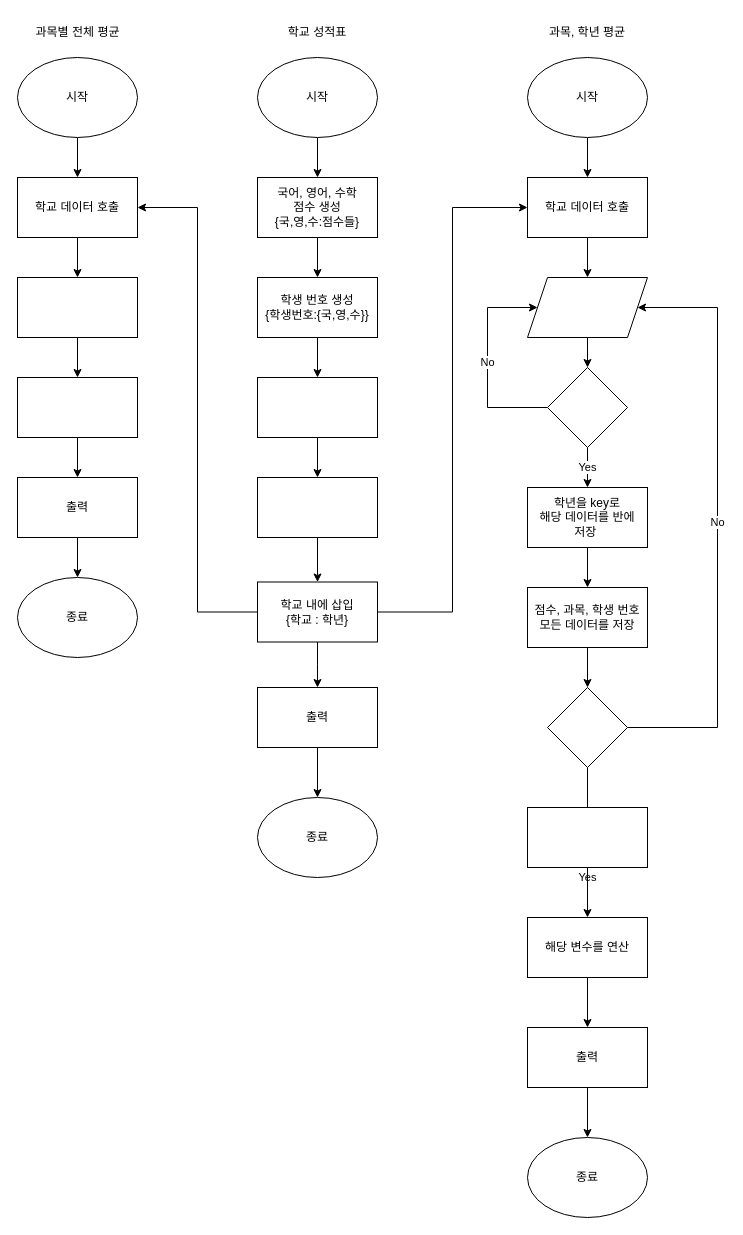
Some shapes in this 743 by 1235 pixel diagram are drawn without their labels. The shapes that lost their labels are listed below. From the top down, each one's centre as x and y in pixels, then its label:
the point at 77,307: 모든 데이터를 가져와 과목 별로 각 리스트에 저장
the point at 587,307: 학년 입력 과목 입력
the point at 77,407: 연산
the point at 317,407: 반 생성 {반:학생번호}
the point at 587,407: 학년?
the point at 317,507: 학년 생성 {학년: 반}
the point at 587,727: 과목키와 일치하는값?
the point at 587,837: 별도 변수에 매칭값 저장
